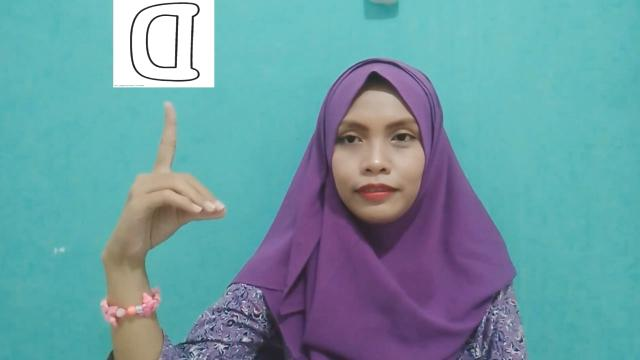D: (105, 98, 227, 264)
